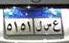1: (26, 21, 32, 31), (13, 21, 18, 32)
5: (7, 22, 12, 31), (21, 23, 25, 31)
ain: (52, 20, 59, 32)
laam: (36, 20, 43, 32)
seen: (44, 22, 52, 31)
